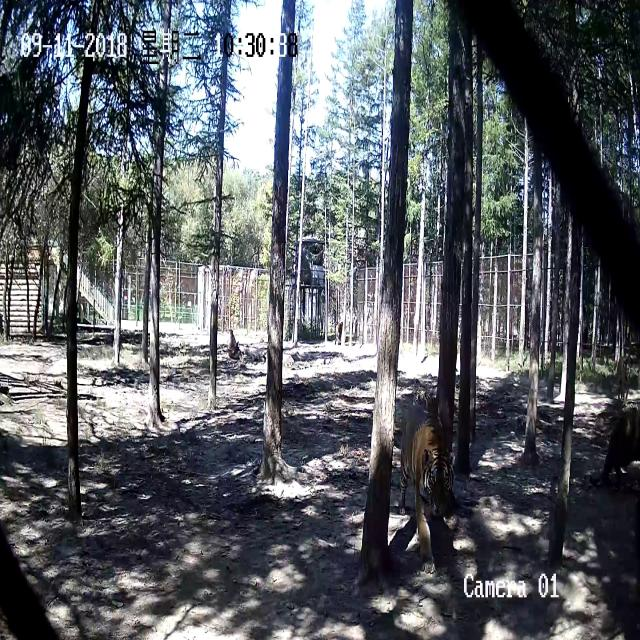Tiger: (397, 399, 459, 581)
